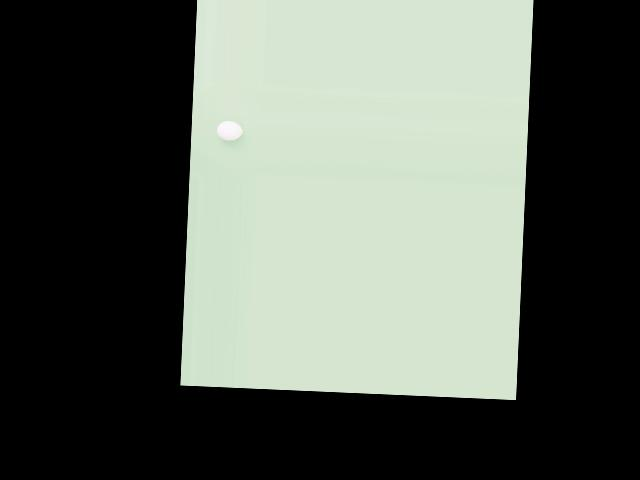egg: (215, 120, 242, 141)
